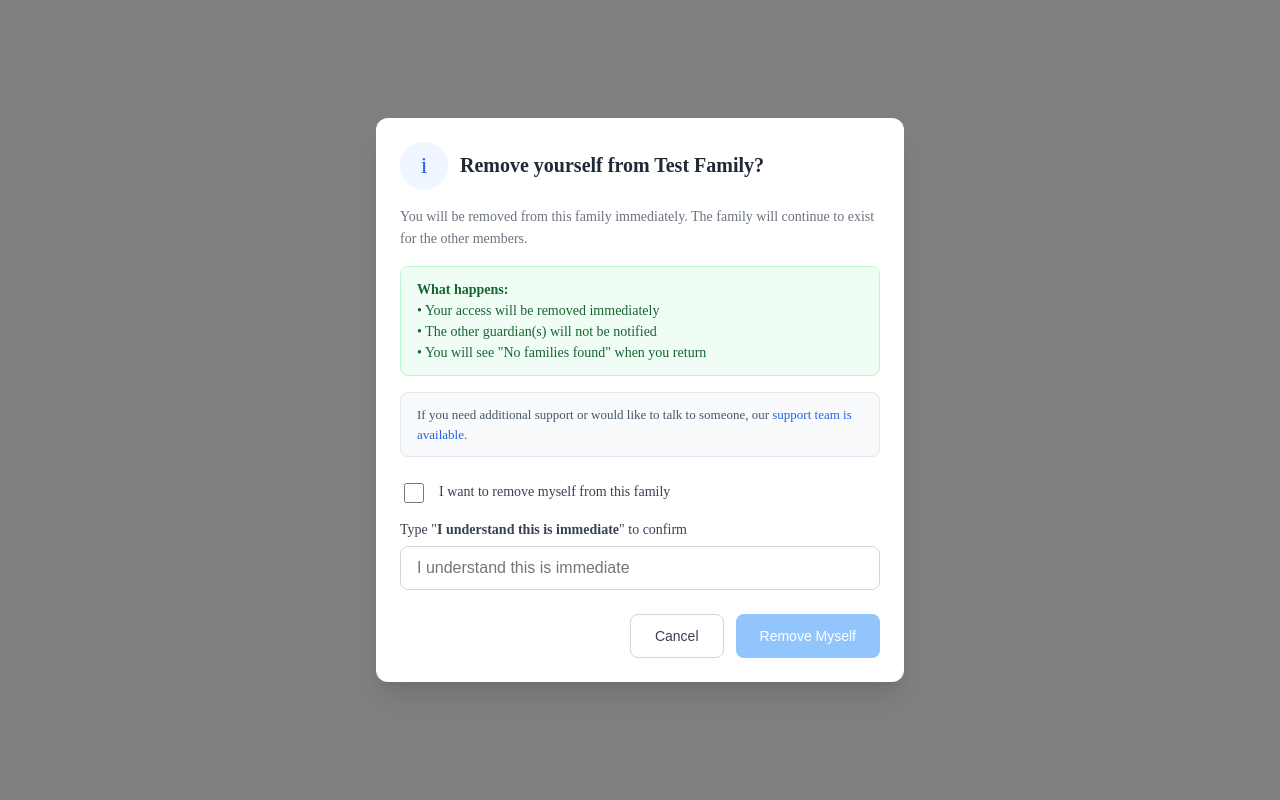
Scenario: SelfRemovalModal › Form Submission › should show error if phrase incorrect
// Check checkbox
Click the checkbox labelled "I want to remove myself from this family". click: (414, 493)
box: [404, 483, 424, 503]
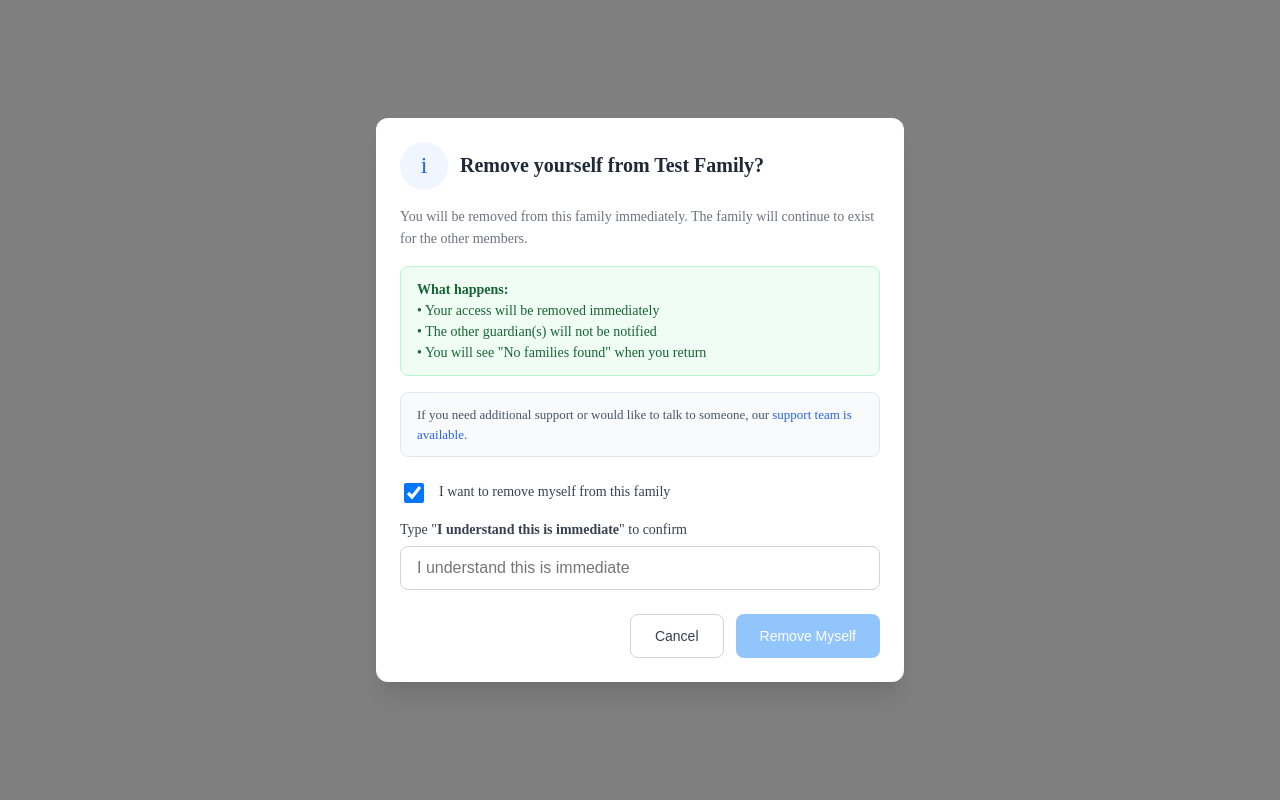
// Type wrong phrase
Type "wrong phrase" into the field with placeholder "I understand this is immediate". click: (640, 568)
box: [400, 546, 880, 590]
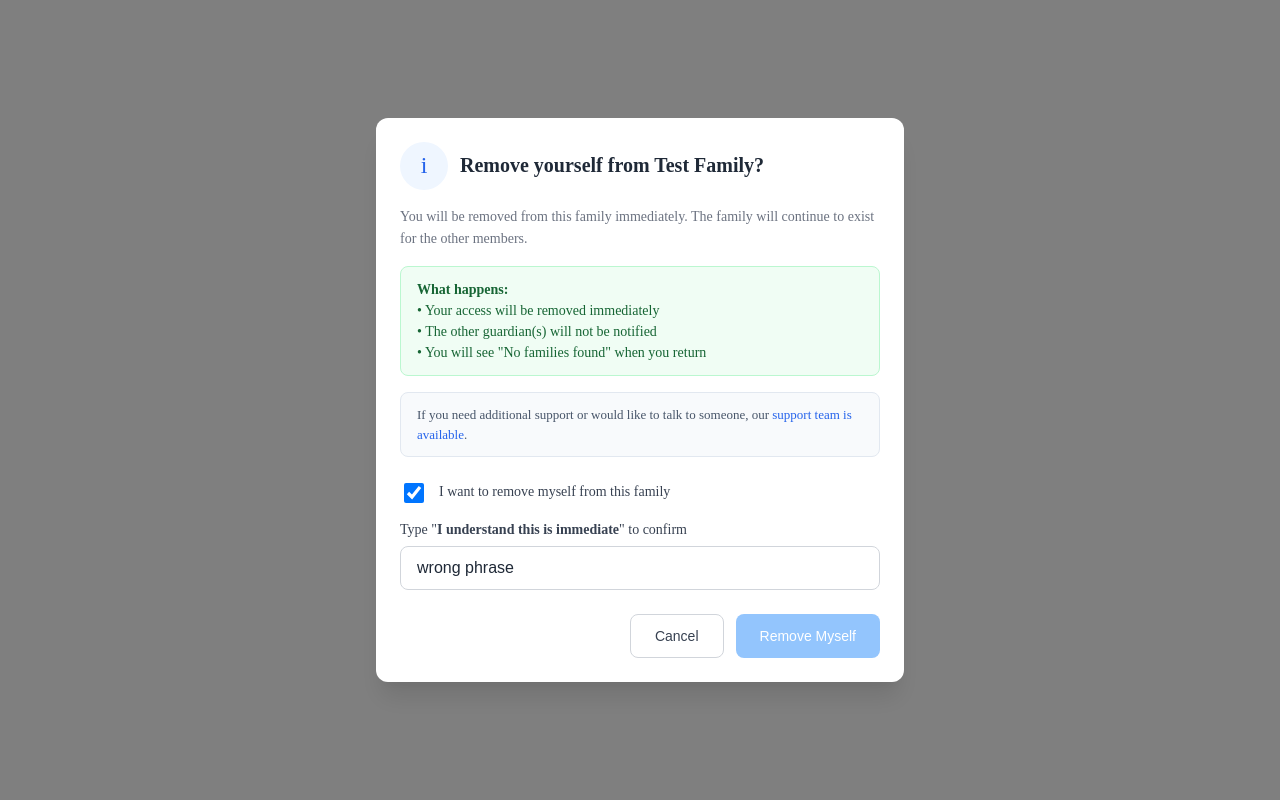
// Submit form
Submit the form with placeholder "I understand this is immediate", box [400, 481, 880, 658]
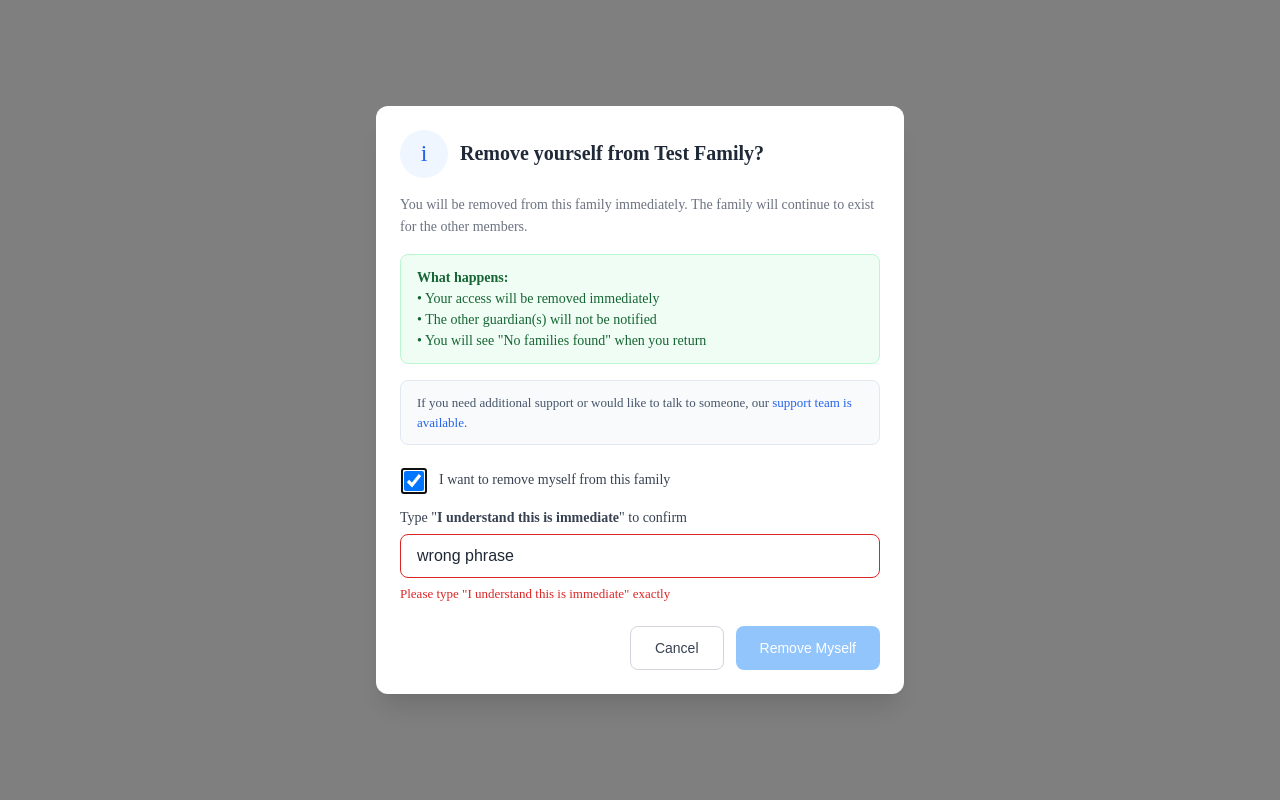
Check: the text "Please type \"I understand this is immediate\" exactly" is shown, box [400, 586, 670, 601]
